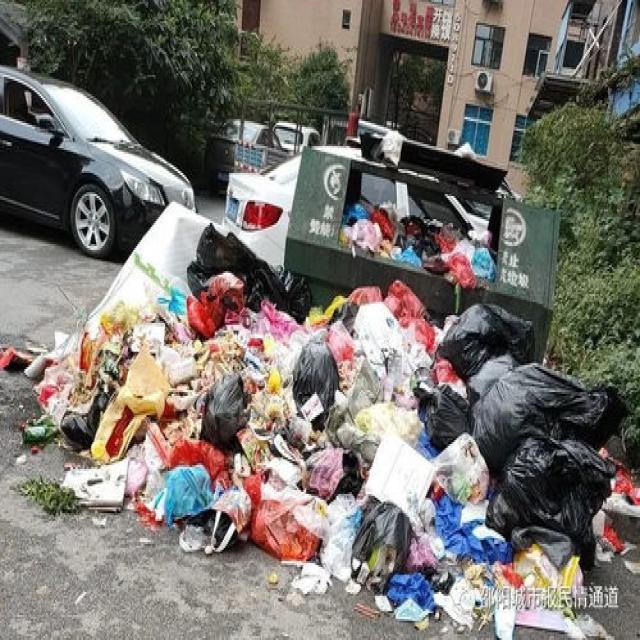garbage: (0, 198, 639, 638)
overflow: (280, 129, 558, 363)
